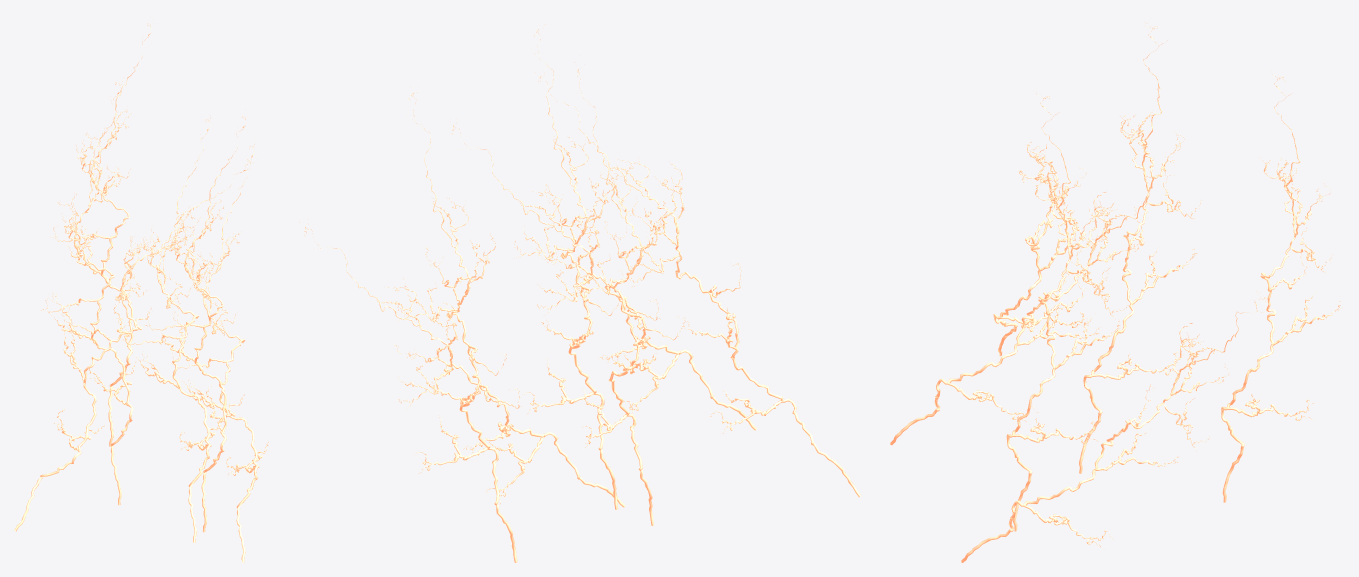
File: toruses-B1mOnel4.glb
3 views of the same model, side by side, from view 1: azimuth 30°, elevation 25°; view 2: azimuth 150°, elevation 25°; view 3: azimuth 270°, elevation 25° (orthographic). The views are drawn at different scales.
Parts seen in each view (by area): view 1: Object_7, Object_7.003, Object_7.004, Object_7.005, Object_7.002, Object_7.001; view 2: Object_7, Object_7.005, Object_7.003, Object_7.004, Object_7.001, Object_7.002; view 3: Object_7.004, Object_7.003, Object_7.005, Object_7.001, Object_7.002, Object_7.
Boxes of the visible parts, <box> form: Object_7: <box>14,159,251,531</box>; Object_7.003: <box>144,115,245,532</box>; Object_7.004: <box>40,81,136,505</box>; Object_7.005: <box>50,23,151,446</box>; Object_7.002: <box>121,114,222,542</box>; Object_7.001: <box>166,144,268,562</box>; Object_7: <box>535,68,861,497</box>; Object_7.005: <box>397,91,517,562</box>; Object_7.003: <box>514,18,621,509</box>; Object_7.004: <box>575,69,685,525</box>; Object_7.001: <box>299,222,625,507</box>; Object_7.002: <box>452,124,756,430</box>; Object_7.004: <box>1079,22,1201,473</box>; Object_7.003: <box>1006,94,1120,531</box>; Object_7.005: <box>1221,71,1340,502</box>; Object_7.001: <box>961,290,1266,562</box>; Object_7.002: <box>890,152,1174,445</box>; Object_7: <box>993,141,1105,356</box>.
Size of the model in its own units: 1.66 by 1.98 by 1.56.
